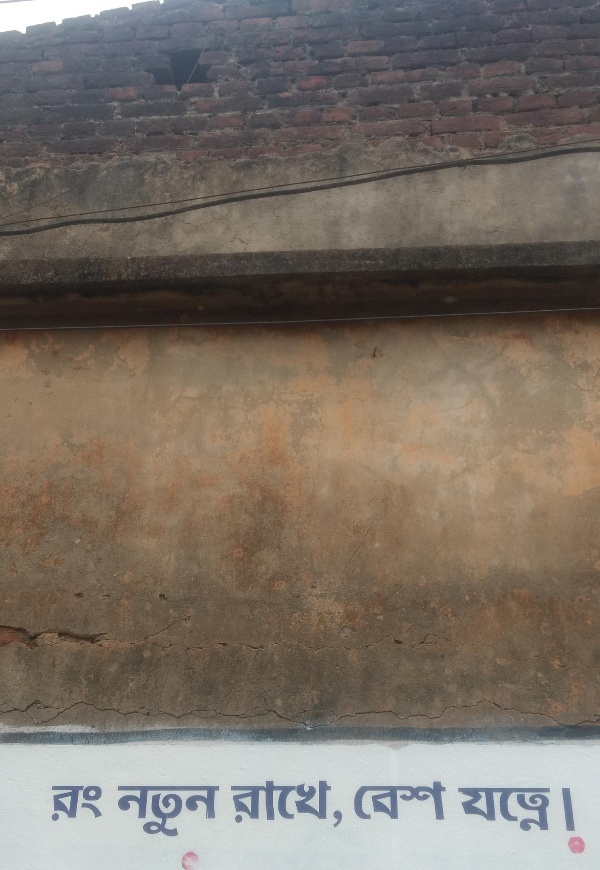text: (209, 783, 225, 838), (129, 783, 144, 838), (145, 783, 160, 838), (161, 783, 176, 838), (177, 783, 192, 838), (193, 783, 208, 838), (49, 780, 64, 833), (65, 780, 80, 833), (81, 780, 96, 833), (465, 781, 480, 834), (481, 781, 496, 834), (497, 781, 512, 834), (513, 781, 528, 834), (529, 781, 544, 834), (433, 775, 449, 824), (241, 777, 256, 828), (257, 777, 272, 828), (273, 777, 288, 828), (289, 777, 304, 828), (305, 777, 320, 828), (321, 777, 336, 828), (353, 775, 368, 824), (369, 775, 384, 824), (385, 775, 400, 824), (401, 775, 416, 824), (417, 775, 432, 824), (561, 785, 576, 832), (116, 783, 128, 838), (230, 777, 240, 828), (545, 781, 554, 834), (337, 777, 346, 828), (97, 780, 105, 833), (458, 781, 464, 834), (351, 775, 352, 824), (577, 785, 578, 832)
